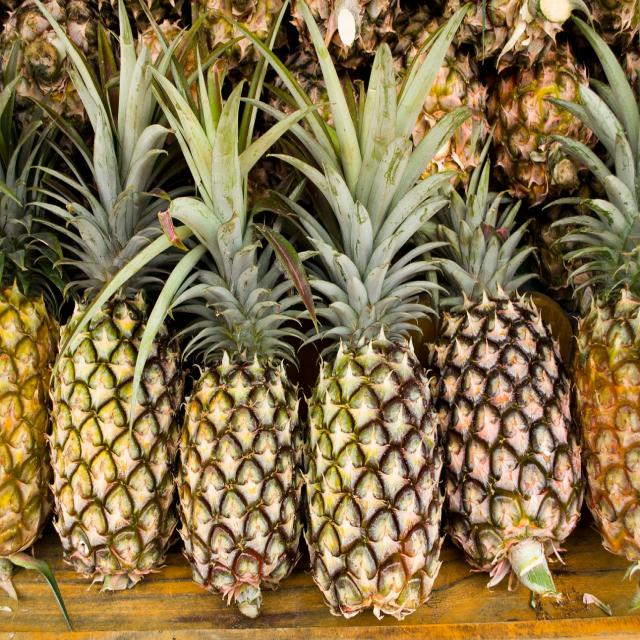pineapple: (301, 285, 444, 614), (48, 245, 176, 583), (440, 288, 579, 582), (176, 304, 309, 608)
